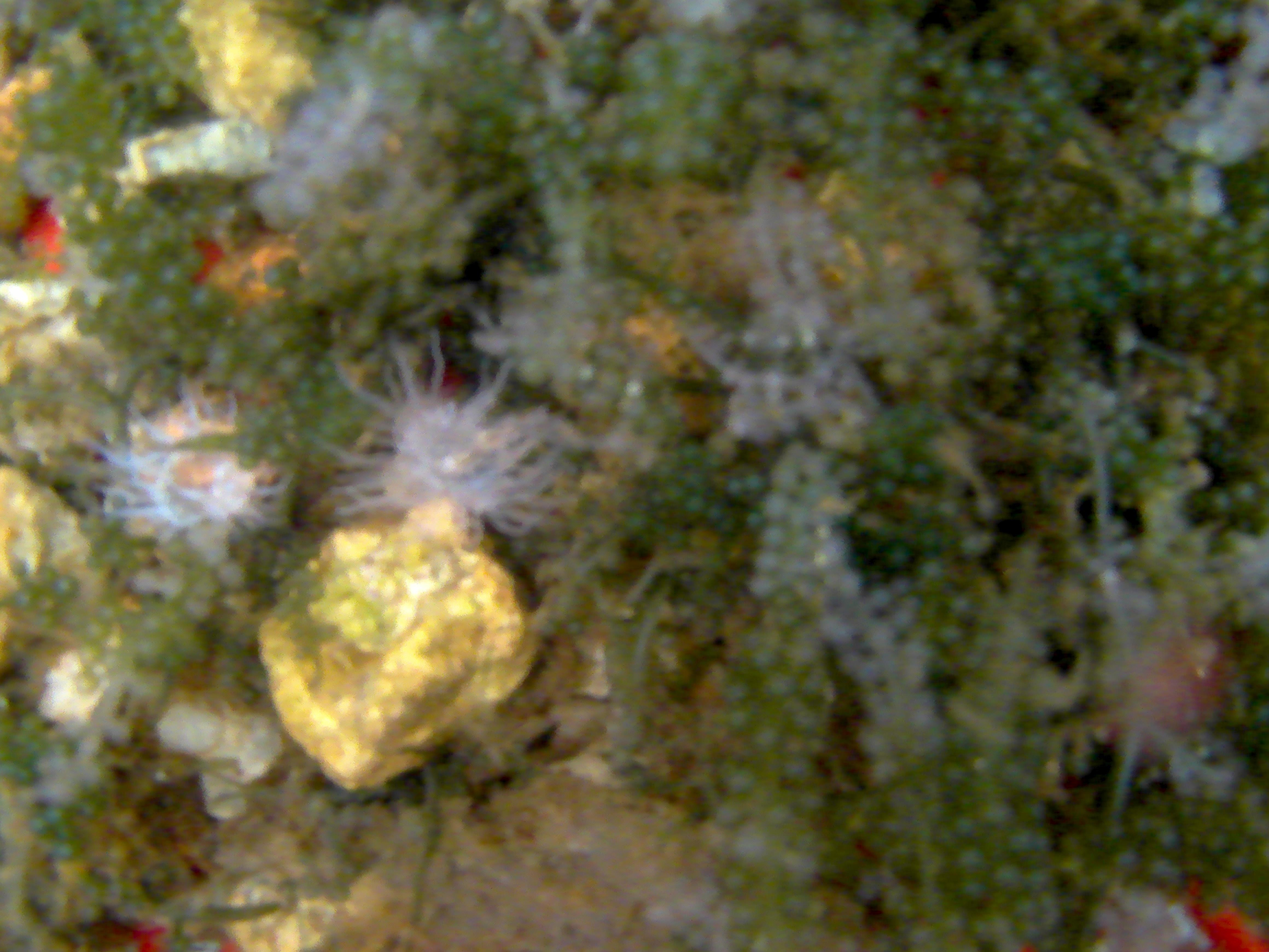Darkening: (975, 493, 1000, 520), (1093, 724, 1112, 744), (161, 791, 179, 809)
Harvestable: (950, 174, 984, 207), (616, 136, 648, 169), (682, 137, 714, 170), (145, 291, 179, 322), (765, 668, 798, 698), (274, 351, 304, 383), (960, 530, 992, 557), (157, 260, 186, 288), (153, 82, 181, 110), (789, 530, 817, 558), (189, 284, 217, 312), (1214, 10, 1241, 39), (33, 121, 62, 148), (122, 267, 149, 295), (29, 92, 56, 120), (86, 133, 114, 159), (750, 644, 778, 670), (753, 724, 781, 750), (983, 800, 1012, 825), (1114, 328, 1140, 355), (125, 39, 151, 66), (93, 235, 121, 260), (1173, 267, 1199, 293), (194, 574, 220, 600), (1112, 447, 1138, 472), (180, 248, 206, 273), (949, 591, 974, 617), (893, 76, 920, 100), (723, 868, 750, 892), (959, 845, 985, 869), (893, 108, 919, 132), (1113, 847, 1139, 871), (727, 706, 753, 730), (1056, 232, 1082, 256), (962, 85, 987, 109), (1160, 463, 1185, 487), (473, 5, 497, 30), (1039, 85, 1064, 109), (837, 460, 862, 484), (833, 135, 858, 159), (473, 115, 498, 139), (727, 679, 752, 703), (70, 156, 95, 180), (1010, 828, 1035, 852), (386, 45, 411, 69), (995, 863, 1021, 886), (949, 59, 973, 83), (897, 147, 921, 171), (14, 587, 38, 611), (1190, 39, 1215, 62), (938, 622, 963, 645), (82, 202, 105, 227), (982, 59, 1006, 82), (1246, 264, 1269, 288), (921, 558, 945, 581), (1157, 12, 1181, 35), (583, 50, 607, 73), (728, 927, 752, 950), (1032, 247, 1056, 270), (587, 144, 611, 167), (321, 381, 344, 405), (1184, 221, 1209, 243), (1179, 0, 1204, 22), (1233, 481, 1256, 504), (1001, 287, 1024, 310), (1147, 233, 1170, 256), (107, 840, 130, 863), (136, 234, 159, 257), (1212, 237, 1236, 259), (937, 497, 961, 519), (343, 19, 367, 41), (77, 902, 101, 924), (182, 206, 206, 228), (944, 762, 967, 784), (1228, 286, 1250, 309), (54, 575, 77, 597), (924, 51, 947, 73), (942, 910, 965, 932), (124, 199, 146, 222), (1150, 858, 1173, 880), (1135, 475, 1158, 497), (863, 128, 885, 151), (674, 71, 697, 93), (922, 142, 946, 163), (1214, 264, 1236, 286), (483, 33, 505, 55), (566, 121, 588, 143), (264, 265, 286, 287), (842, 107, 864, 129), (528, 131, 550, 153), (1097, 292, 1119, 314), (874, 477, 897, 498), (1003, 332, 1026, 353), (962, 879, 985, 900), (1078, 276, 1101, 297), (1144, 271, 1165, 294), (970, 354, 991, 377), (143, 1, 166, 22), (1028, 868, 1051, 889), (1064, 337, 1087, 358), (1083, 228, 1106, 249), (1026, 67, 1050, 87), (1211, 491, 1232, 513), (1157, 828, 1179, 849), (999, 361, 1020, 383), (296, 376, 318, 397), (1015, 897, 1037, 918), (1101, 423, 1122, 445), (115, 20, 137, 41), (267, 442, 289, 463), (385, 24, 407, 45), (1127, 424, 1148, 445), (1206, 411, 1227, 432), (955, 815, 976, 836), (68, 183, 89, 204), (45, 806, 66, 827), (1241, 225, 1262, 246), (775, 588, 796, 609), (888, 546, 909, 567), (1216, 214, 1238, 234), (1013, 109, 1035, 129), (1105, 244, 1127, 264), (744, 472, 765, 492), (1061, 368, 1082, 388), (685, 494, 706, 514), (900, 36, 921, 56), (47, 169, 68, 189), (806, 737, 827, 757), (54, 840, 75, 860), (1178, 422, 1199, 442), (1249, 300, 1269, 320), (910, 462, 931, 481), (957, 112, 978, 131), (314, 360, 335, 379), (1070, 757, 1091, 776), (1118, 263, 1137, 283), (1015, 264, 1035, 283), (145, 63, 165, 82), (1117, 410, 1137, 429), (1084, 556, 1104, 575), (119, 2, 139, 21), (1169, 243, 1189, 262), (1027, 801, 1047, 820), (1251, 179, 1269, 200), (1031, 121, 1050, 140), (1039, 892, 1058, 911), (28, 814, 47, 833), (281, 411, 301, 429), (726, 477, 744, 496), (1115, 361, 1134, 379), (972, 756, 991, 774), (930, 118, 949, 136), (1057, 393, 1076, 411), (706, 503, 725, 521), (1138, 56, 1156, 74), (280, 257, 298, 275), (980, 110, 998, 128), (1111, 230, 1130, 247), (1085, 201, 1104, 218), (1210, 304, 1228, 321), (566, 620, 584, 636), (746, 512, 763, 528), (1255, 703, 1269, 722), (1258, 469, 1269, 492), (1257, 665, 1269, 685), (1027, 322, 1041, 337), (1207, 441, 1221, 456), (1119, 494, 1134, 508)
Whitening: (1189, 186, 1223, 220), (1194, 65, 1225, 95), (254, 178, 282, 211), (822, 614, 852, 644), (858, 727, 892, 753), (1166, 115, 1196, 144), (282, 186, 313, 214), (1163, 187, 1192, 216), (1189, 162, 1218, 191), (265, 201, 290, 232), (277, 133, 302, 164), (752, 574, 781, 600), (307, 103, 334, 130), (1232, 534, 1260, 560), (857, 658, 890, 680), (822, 421, 846, 451), (364, 126, 392, 151), (519, 360, 546, 385), (773, 463, 797, 491), (333, 144, 359, 168), (759, 495, 785, 519), (761, 523, 787, 547), (918, 731, 942, 756), (871, 756, 894, 782), (1097, 391, 1118, 419), (356, 146, 381, 169), (820, 244, 845, 267), (908, 641, 933, 664), (838, 574, 860, 600), (823, 541, 845, 567), (754, 278, 776, 304), (297, 114, 317, 142), (899, 666, 926, 686), (874, 585, 897, 608), (323, 164, 342, 191), (889, 607, 912, 629), (1079, 380, 1103, 401), (845, 404, 866, 427), (754, 552, 778, 572), (889, 262, 914, 281), (906, 690, 932, 708), (795, 274, 816, 296), (1099, 568, 1120, 590), (793, 507, 813, 530), (869, 628, 892, 648), (624, 379, 645, 400), (773, 331, 793, 353), (817, 507, 835, 531), (835, 374, 855, 395), (909, 303, 929, 324), (576, 362, 596, 383), (764, 384, 783, 406), (789, 256, 811, 275), (820, 478, 841, 497), (751, 423, 772, 442), (791, 444, 809, 465), (799, 327, 817, 348), (877, 708, 897, 726), (913, 707, 928, 731), (753, 313, 771, 332), (877, 338, 894, 358), (742, 331, 759, 351), (801, 485, 817, 506), (730, 419, 747, 438), (836, 327, 853, 346), (779, 414, 797, 431), (849, 429, 862, 452), (806, 212, 823, 228), (867, 691, 884, 707), (809, 228, 831, 240), (823, 572, 839, 588), (845, 657, 861, 671)
